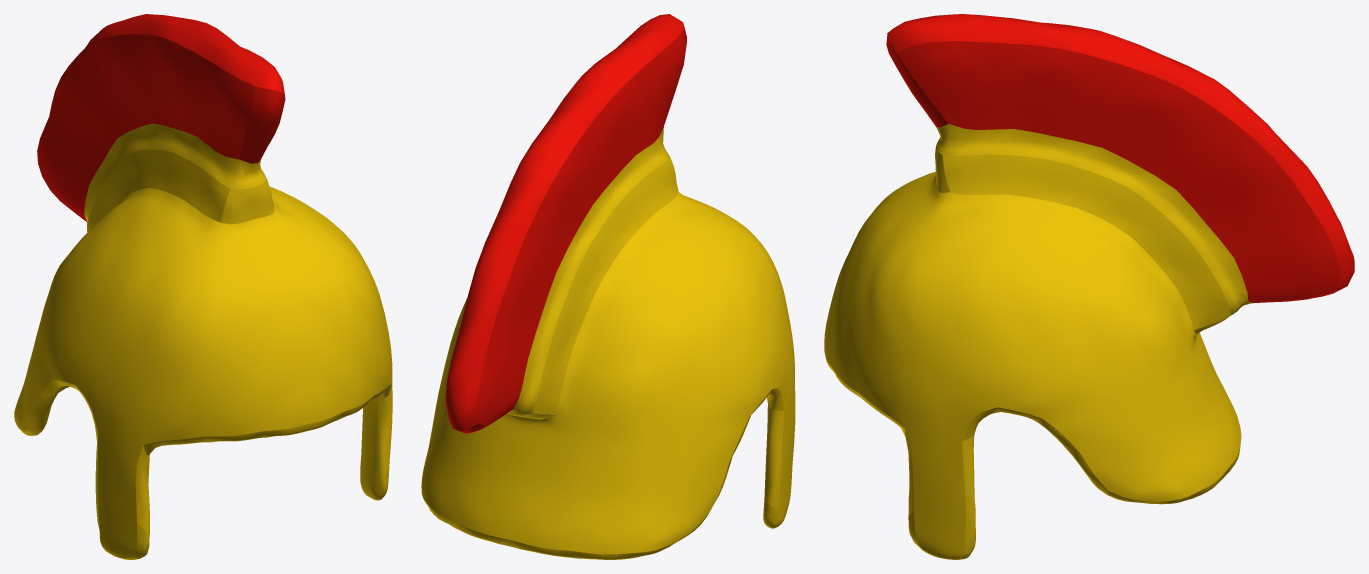
Rendered from LegionHat.fbx.
The picture shows the model from 3 angles, left to right: view 1: azimuth 30°, elevation 25°; view 2: azimuth 150°, elevation 25°; view 3: azimuth 270°, elevation 25°; orthographic projection. The views are drawn at different scales.
Visible parts, largest first — view 1: m_GladiatorHelmet01; view 2: m_GladiatorHelmet01; view 3: m_GladiatorHelmet01.
Boxes of the visible parts, box(x1,y1,x2,y2) form: m_GladiatorHelmet01: box(14, 14, 392, 559); m_GladiatorHelmet01: box(421, 14, 795, 559); m_GladiatorHelmet01: box(824, 14, 1354, 559).
Size of the model in its own units: 521 by 791 by 795.
